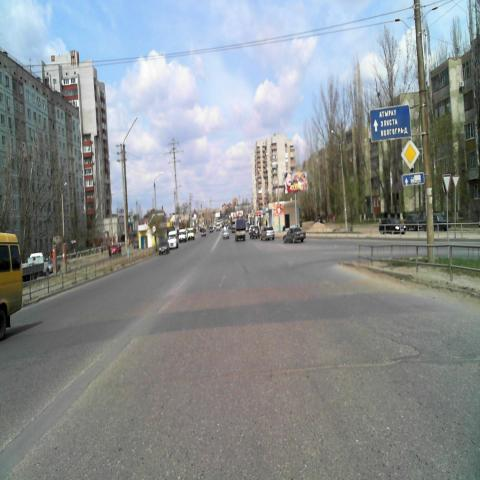6_15_1: (402, 171, 424, 186)
